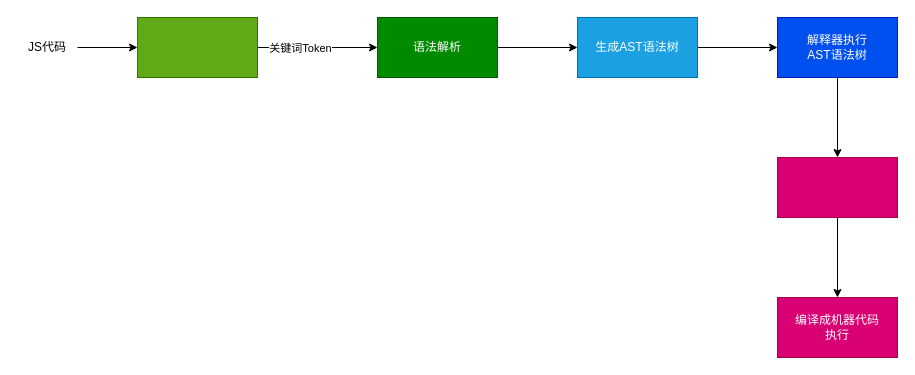
The diagram is 915 pixels wide and 375 high, and some of its shapes have lost their labels. Each missing label, with the centre of its shape:
"编译成字节码" belongs at (837,187).
"词法解析" belongs at (197,47).
